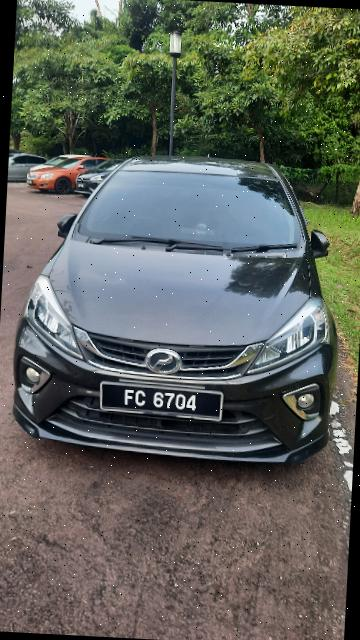License_Plate: (96, 380, 229, 427)
car: (6, 136, 349, 477)
